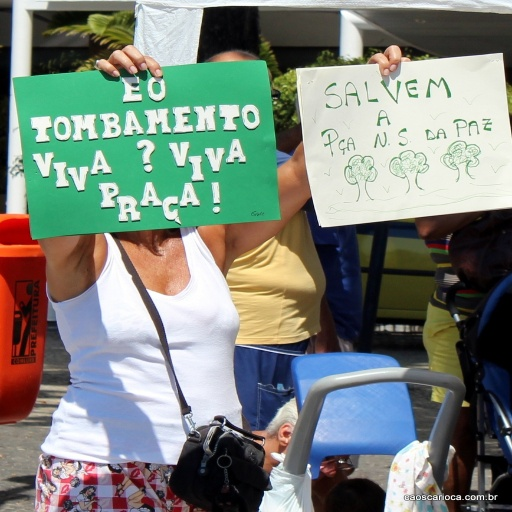hand: (30, 40, 168, 280), (363, 44, 410, 77)
